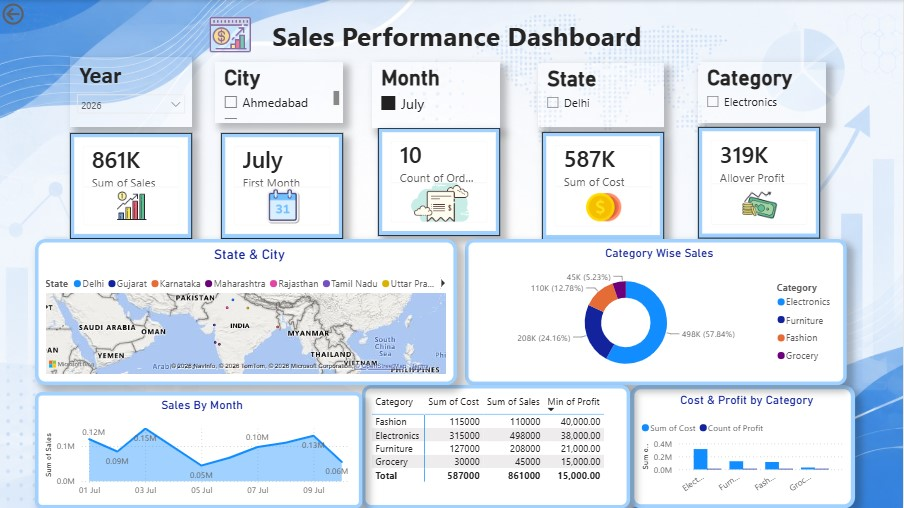

Layout of this report page (visuals, bound fields, positions):
{"tool":"powerbi","page":{"name":"Page 1","canvas":[1280,720],"ordinal":0},"visuals":[{"type":"actionButton","box":[0,0,100,40],"z":0},{"type":"textbox","box":[50.4,20.2,1196,67.2],"z":1000},{"type":"slicer","fields":{"Values":["Messy_Sales_Data.Order Date.Variation.Date Hierarchy.Year"]},"box":[100.8,80.6,173,99.1],"z":2000},{"type":"slicer","fields":{"Values":["Messy_Sales_Data.City"]},"box":[305.7,87.3,181.4,85.7],"z":3000},{"type":"slicer","fields":{"Values":["Messy_Sales_Data.Month"]},"box":[529.1,87.3,181.4,94.1],"z":4000},{"type":"slicer","fields":{"Values":["Messy_Sales_Data.State"]},"box":[764.3,89,178.1,90.7],"z":5000},{"type":"slicer","fields":{"Values":["Messy_Sales_Data.Category"]},"box":[991.1,87.3,181.4,85.7],"z":6000},{"type":"cardVisual","fields":{"Data":["Sum(Messy_Sales_Data.Sales)"]},"box":[100.8,188.1,173,149.5],"z":7000},{"type":"cardVisual","fields":{"Data":["Min(Messy_Sales_Data.Month)"]},"box":[314.1,188.1,173,149.5],"z":8000},{"type":"cardVisual","fields":{"Data":["CountNonNull(Messy_Sales_Data.Order ID)"]},"box":[537.5,181.4,173,152.9],"z":9000},{"type":"cardVisual","fields":{"Data":["Sum(Messy_Sales_Data.Cost)"]},"box":[769.3,186.5,173,152.9],"z":10000},{"type":"cardVisual","fields":{"Data":["Messy_Sales_Data.Allover Profit"]},"box":[991.1,179.7,173,157.9],"z":11000},{"type":"clusteredColumnChart","title":"Cost & Profit by Category","fields":{"Category":["Messy_Sales_Data.Category"],"Y":["Sum(Messy_Sales_Data.Cost)","CountNonNull(Messy_Sales_Data.Profit)"]},"box":[893.6,545.9,319.2,174.7],"z":12000},{"type":"donutChart","title":"Category Wise Sales","fields":{"Category":["Messy_Sales_Data.Category"],"Y":["Sum(Messy_Sales_Data.Sales)"]},"box":[660.2,339.3,540.9,206.6],"z":13000},{"type":"pivotTable","fields":{"Rows":["Messy_Sales_Data.Category"],"Values":["Sum(Messy_Sales_Data.Cost)","Sum(Messy_Sales_Data.Sales)","Min(Messy_Sales_Data.Profit)"]},"box":[514,545.9,379.6,174.7],"z":14000},{"type":"map","title":"State & City","fields":{"Category":["Messy_Sales_Data.City"],"Series":["Messy_Sales_Data.State"]},"box":[50.4,339.3,598,206.6],"z":15000},{"type":"image","box":[258.7,15.1,137.7,67.2],"z":16000},{"type":"lineChart","title":"Sales By Month","fields":{"Y":["Sum(Messy_Sales_Data.Sales)"],"Category":["Messy_Sales_Data.Order Date.Variation.Date Hierarchy.Year","Messy_Sales_Data.Order Date.Variation.Date Hierarchy.Quarter","Messy_Sales_Data.Order Date.Variation.Date Hierarchy.Month","Messy_Sales_Data.Order Date.Variation.Date Hierarchy.Day"]},"box":[50.4,556,463.6,164.6],"z":17000}]}

Visuals, with their boxes in screenshot pixels (x1, y1, x2, y2), scaled from the page's 1280x720 canvas onto the 904x508 screenshot:
actionButton: bbox=[0, 0, 71, 28]
textbox: bbox=[36, 14, 880, 62]
slicer - Messy_Sales_Data.Order Date.Variation.Date Hierarchy.Year: bbox=[71, 57, 193, 127]
slicer - Messy_Sales_Data.City: bbox=[216, 62, 344, 122]
slicer - Messy_Sales_Data.Month: bbox=[374, 62, 502, 128]
slicer - Messy_Sales_Data.State: bbox=[540, 63, 666, 127]
slicer - Messy_Sales_Data.Category: bbox=[700, 62, 828, 122]
cardVisual - Sum(Messy_Sales_Data.Sales): bbox=[71, 133, 193, 238]
cardVisual - Min(Messy_Sales_Data.Month): bbox=[222, 133, 344, 238]
cardVisual - CountNonNull(Messy_Sales_Data.Order ID): bbox=[380, 128, 502, 236]
cardVisual - Sum(Messy_Sales_Data.Cost): bbox=[543, 132, 665, 239]
cardVisual - Messy_Sales_Data.Allover Profit: bbox=[700, 127, 822, 238]
"Cost & Profit by Category" clusteredColumnChart: bbox=[631, 385, 857, 507]
"Category Wise Sales" donutChart: bbox=[466, 239, 848, 385]
pivotTable - Messy_Sales_Data.Category x Sum(Messy_Sales_Data.Cost): bbox=[363, 385, 631, 507]
"State & City" map: bbox=[36, 239, 458, 385]
image: bbox=[183, 11, 280, 58]
"Sales By Month" lineChart: bbox=[36, 392, 363, 507]
